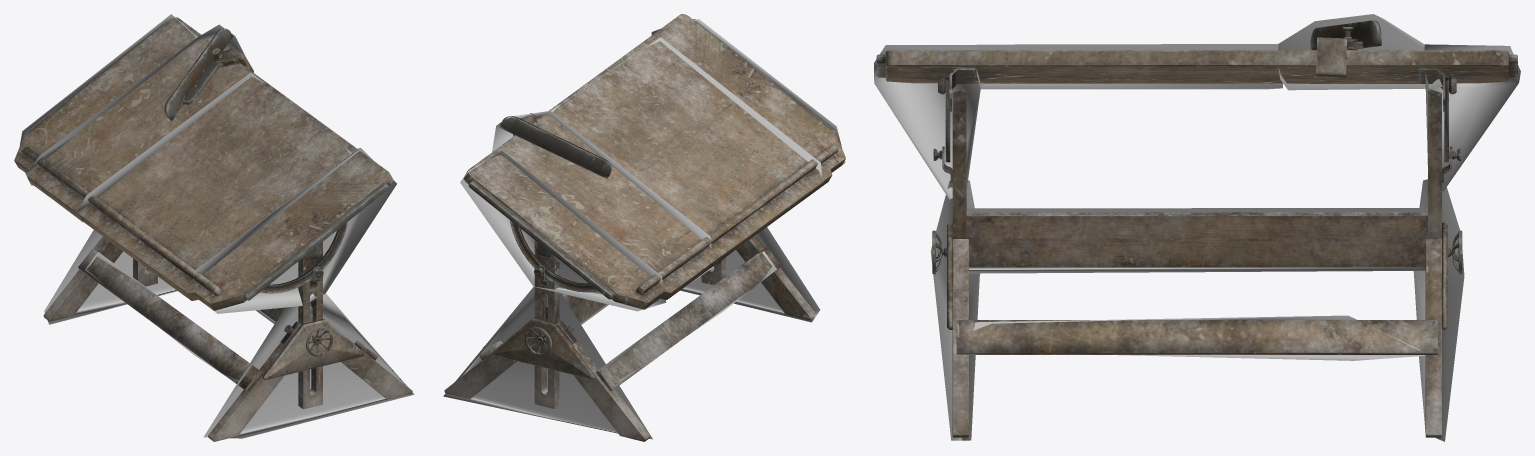
Rendered from SM_Drawing_Table.gltf.
The picture shows the model from 3 angles, left to right: view 1: azimuth 30°, elevation 25°; view 2: azimuth 150°, elevation 25°; view 3: azimuth 270°, elevation 25°; orthographic projection. The views are drawn at different scales.
Parts seen in each view (by area): view 1: SM_Drawing_Table_LOD0, SM_Drawing_Table_ConvexHulls; view 2: SM_Drawing_Table_LOD0, SM_Drawing_Table_ConvexHulls; view 3: SM_Drawing_Table_LOD0, SM_Drawing_Table_ConvexHulls.
Boxes of the visible parts, x1,y1,x2,y2 form: SM_Drawing_Table_LOD0: (14,17,412,441); SM_Drawing_Table_ConvexHulls: (19,14,414,438); SM_Drawing_Table_LOD0: (444,14,845,441); SM_Drawing_Table_ConvexHulls: (443,19,845,439); SM_Drawing_Table_LOD0: (876,20,1517,437); SM_Drawing_Table_ConvexHulls: (874,14,1520,441).
Size of what is drawn, in the model's own units: 1.15 by 1.34 by 2.
